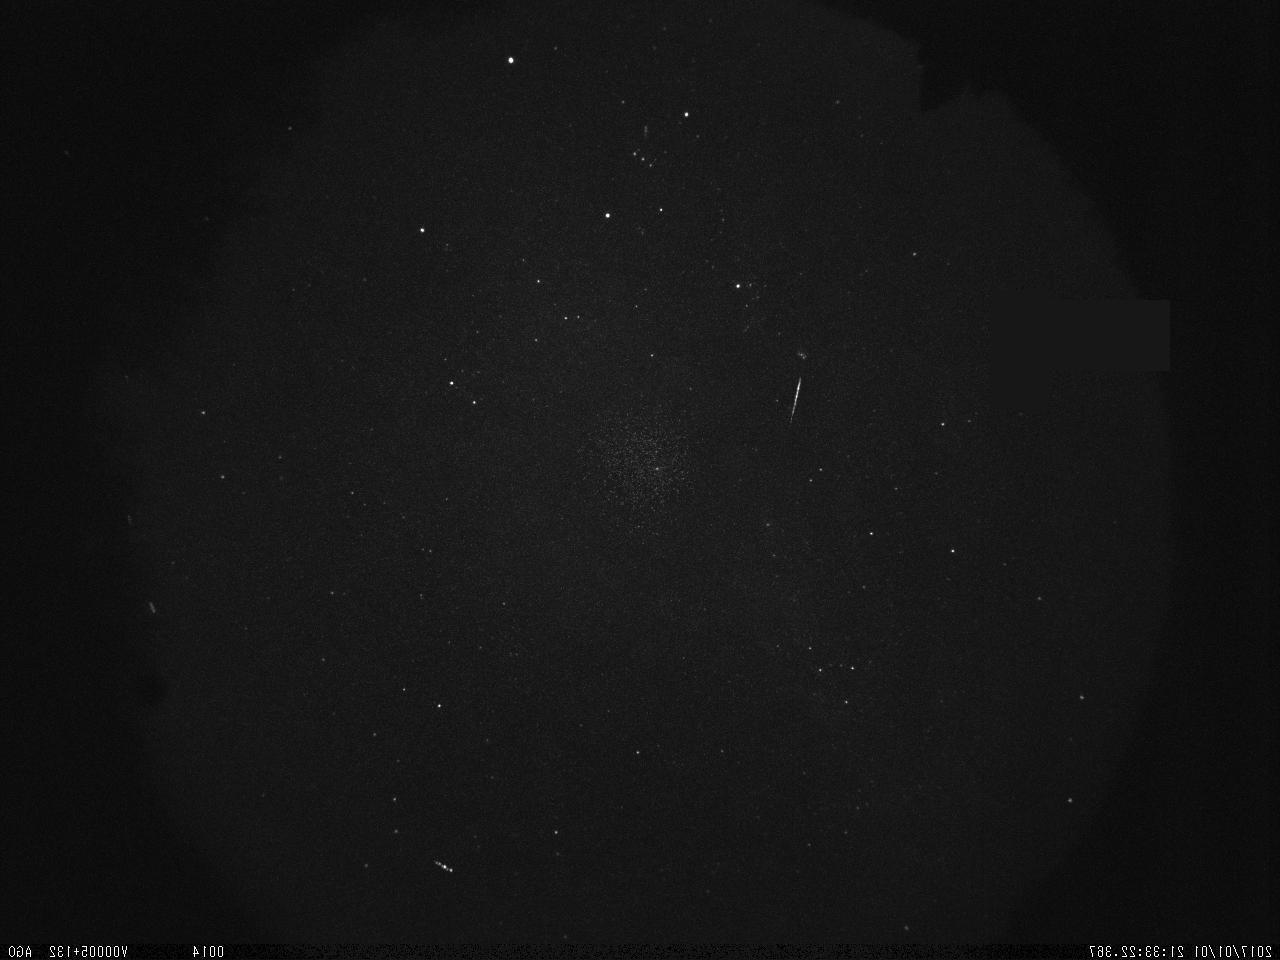meteor: (783, 374, 812, 428)
